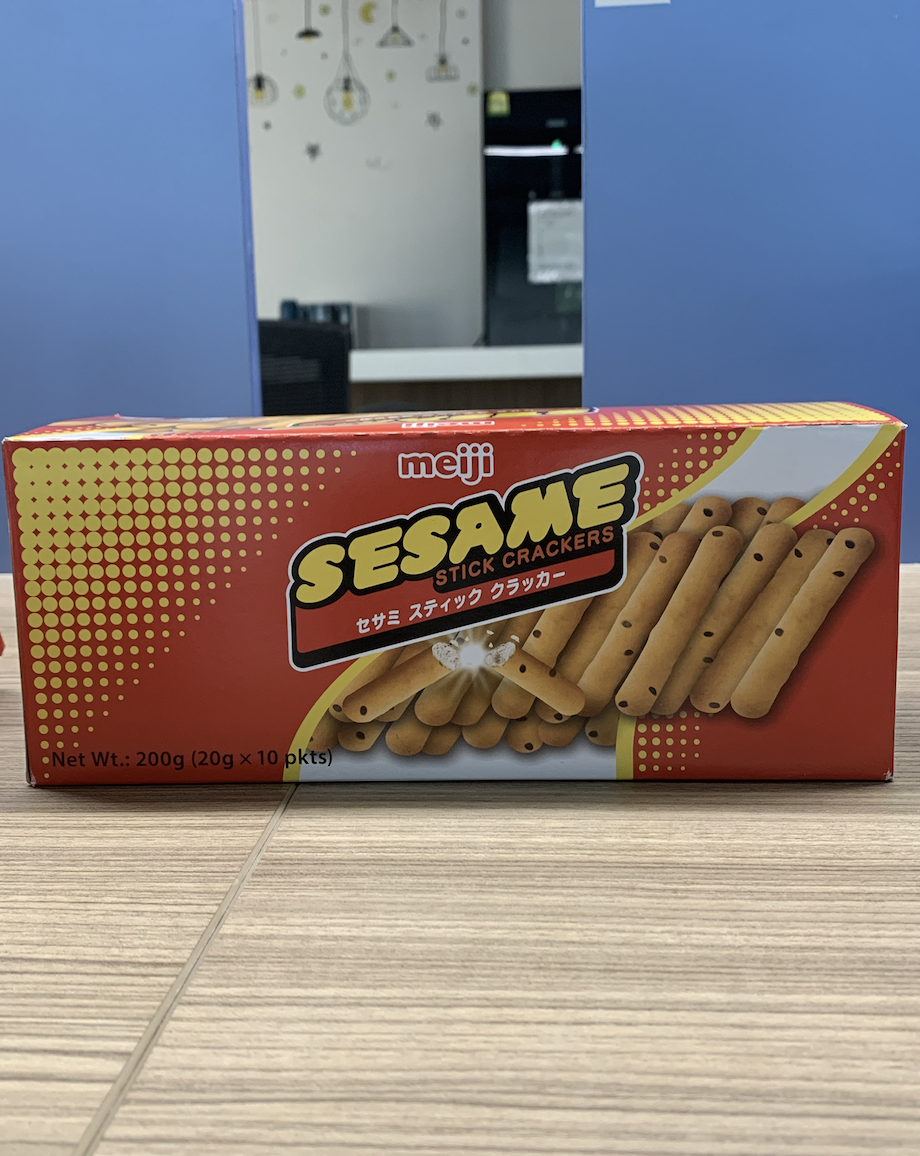crackers_200g-299g: (30, 446, 880, 778)
